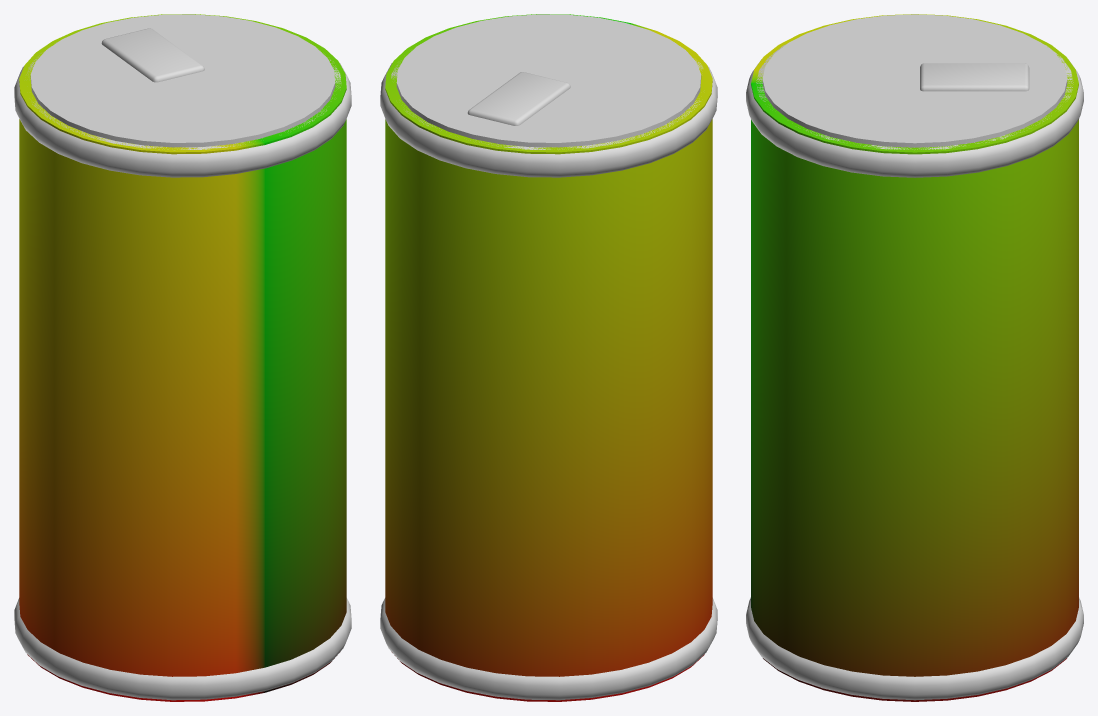
Rendered from can_beer.glb.
3 renders of one model, left to right at view 1: azimuth 30°, elevation 25°; view 2: azimuth 150°, elevation 25°; view 3: azimuth 270°, elevation 25°, orthographic.
Visible parts, largest first — view 1: can_beer; view 2: can_beer; view 3: can_beer.
Boxes of the visible parts, bbox=[...] form: can_beer: bbox=[14, 14, 351, 701]; can_beer: bbox=[380, 14, 717, 701]; can_beer: bbox=[746, 14, 1083, 701].
Bounding box in the file's own units: 0.068 × 0.124 × 0.068.
